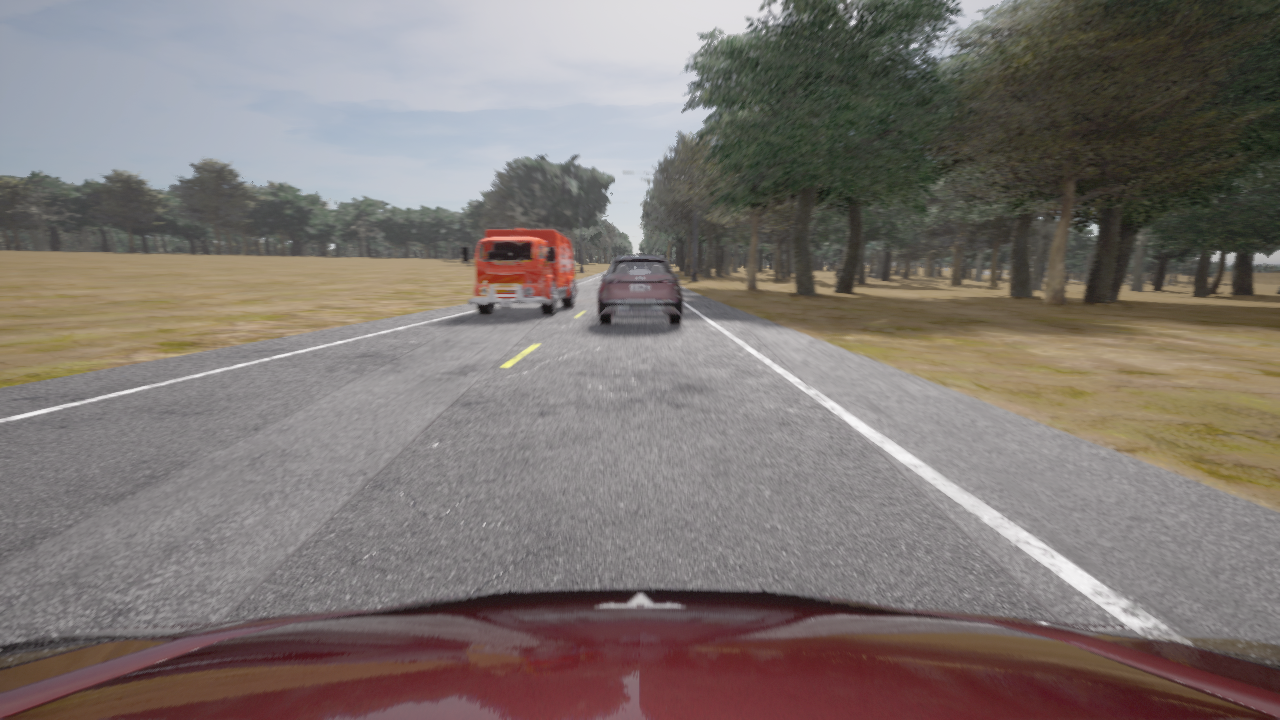cyclist: (0, 588, 1279, 719), (461, 229, 576, 314), (598, 254, 681, 325)
